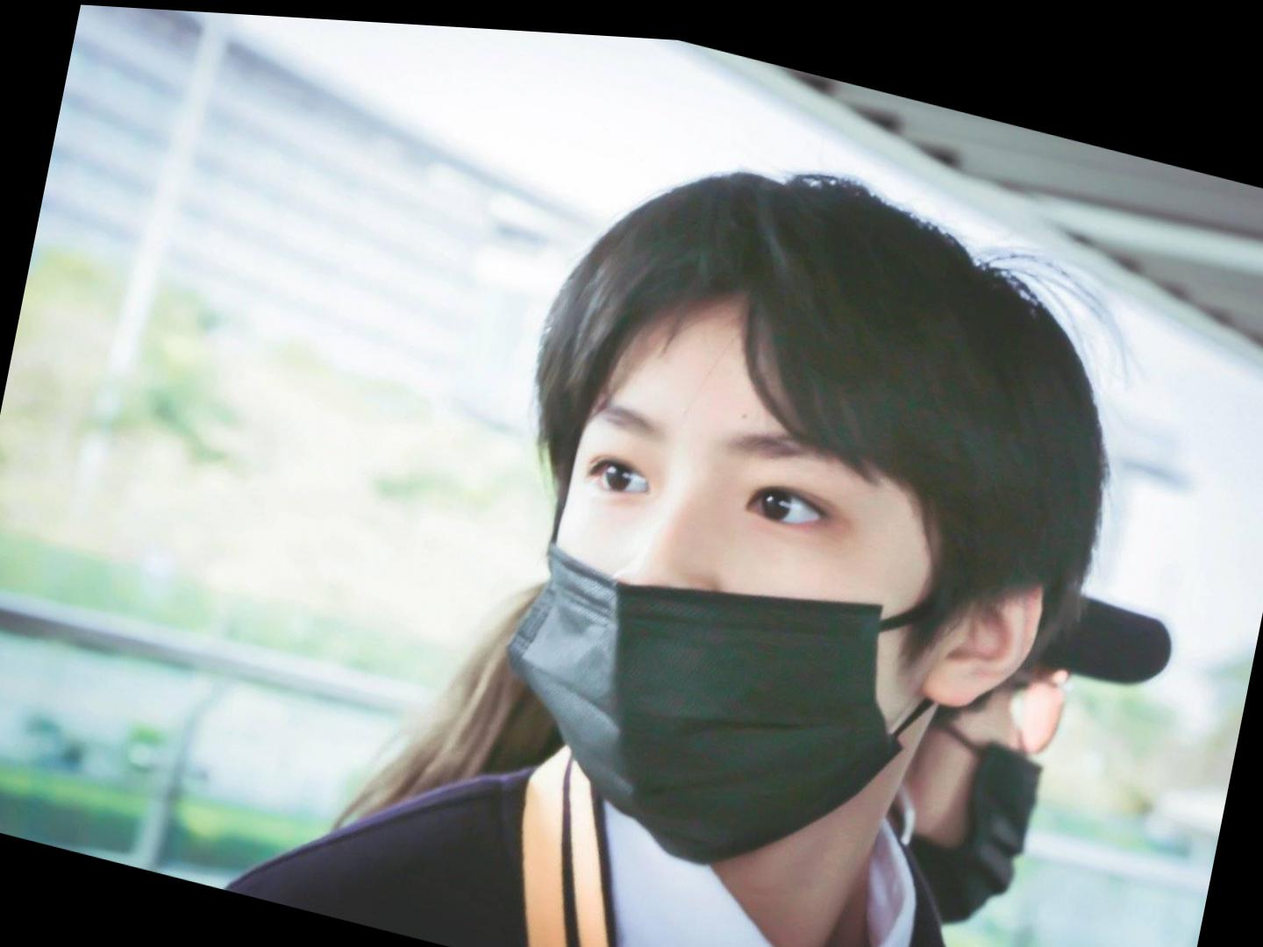OK: (884, 627, 1066, 936)
WRONG: (488, 317, 948, 886)
